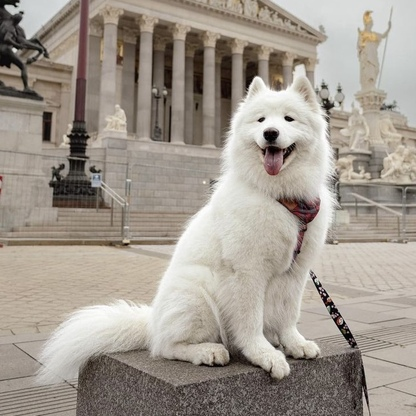samoyed: (32, 69, 341, 389)
